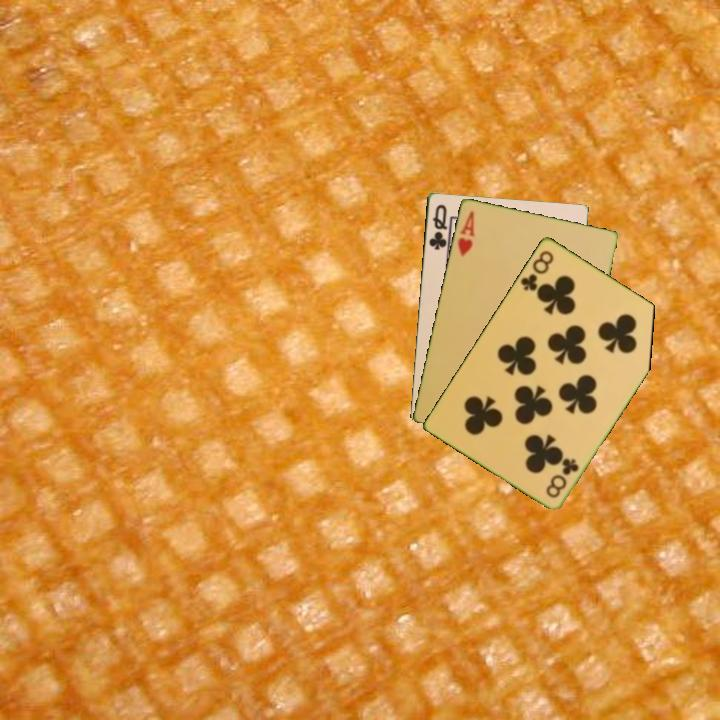8c: (517, 246, 557, 294), (542, 454, 582, 501)
Ah: (454, 207, 478, 259)
Qc: (425, 201, 450, 252)
